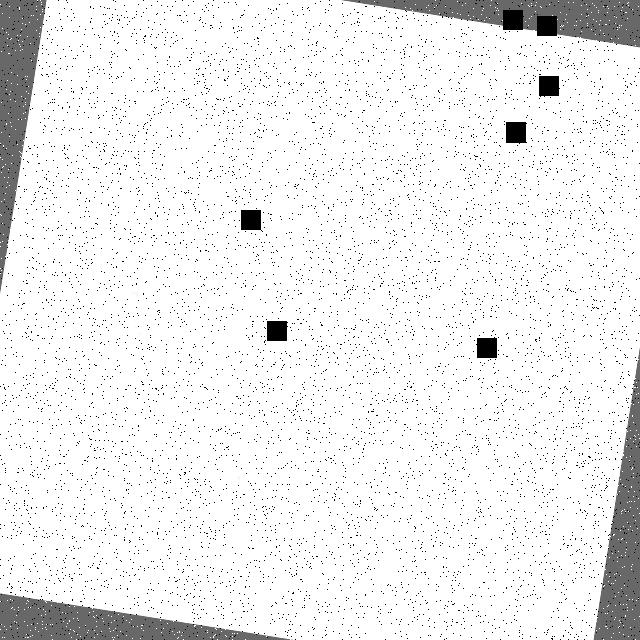plastic_box: (84, 0, 609, 640)
